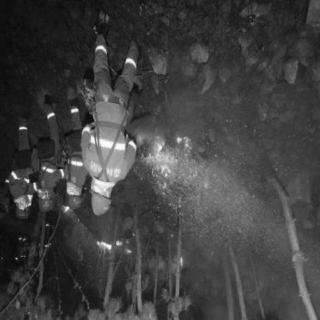Fire: (142, 130, 288, 268), (92, 233, 140, 267), (58, 204, 82, 226)
